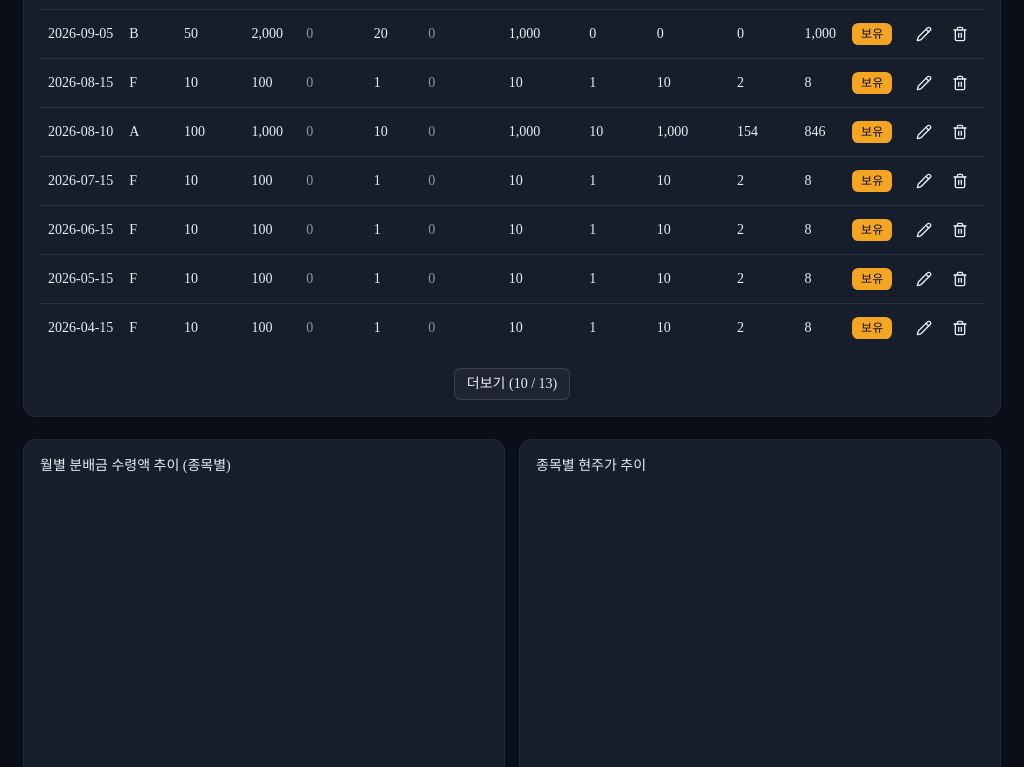
DistributionAccountView — 화면 출력 고정 › 표: 최신 거래일 순, 처음 10건만 보이고 '더보기'로 나머지 표시
The image size is (1024, 767).
(page scrolled)
Click the button "더보기 (10 / 13)" at (512, 384), box [454,368,570,400]
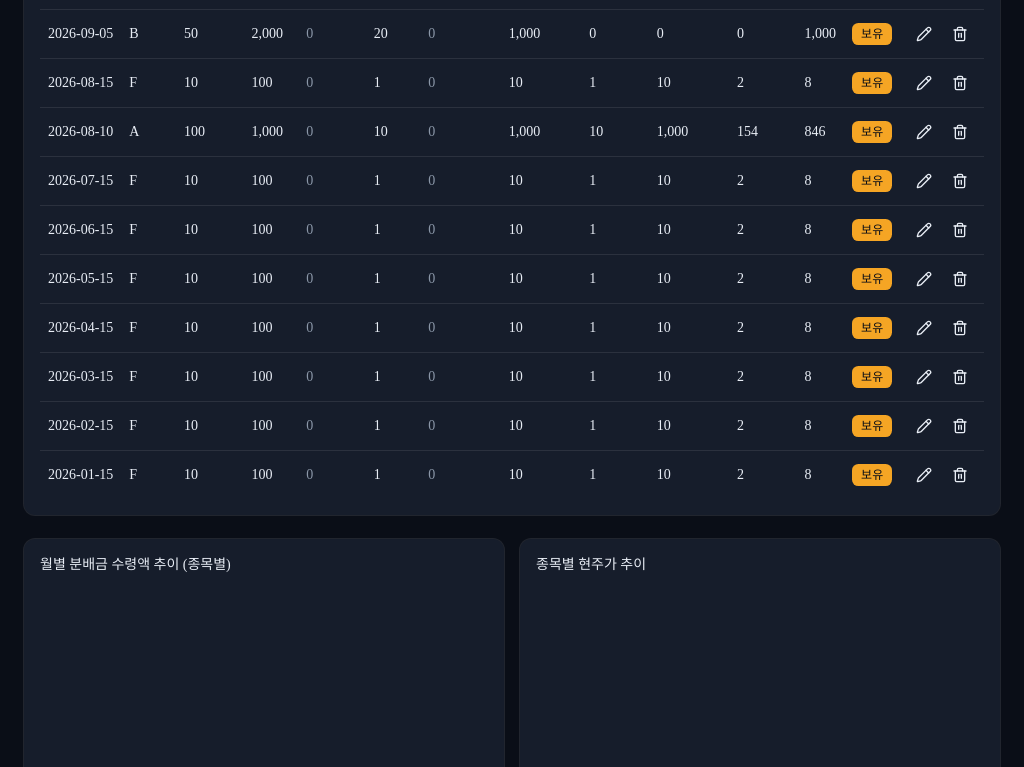
Expected: the button "더보기" is gone
